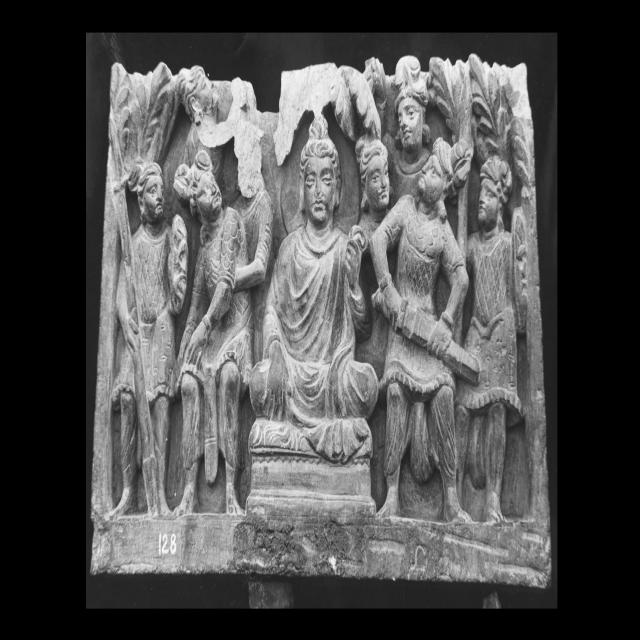buddha-sitting: (246, 116, 379, 518)
